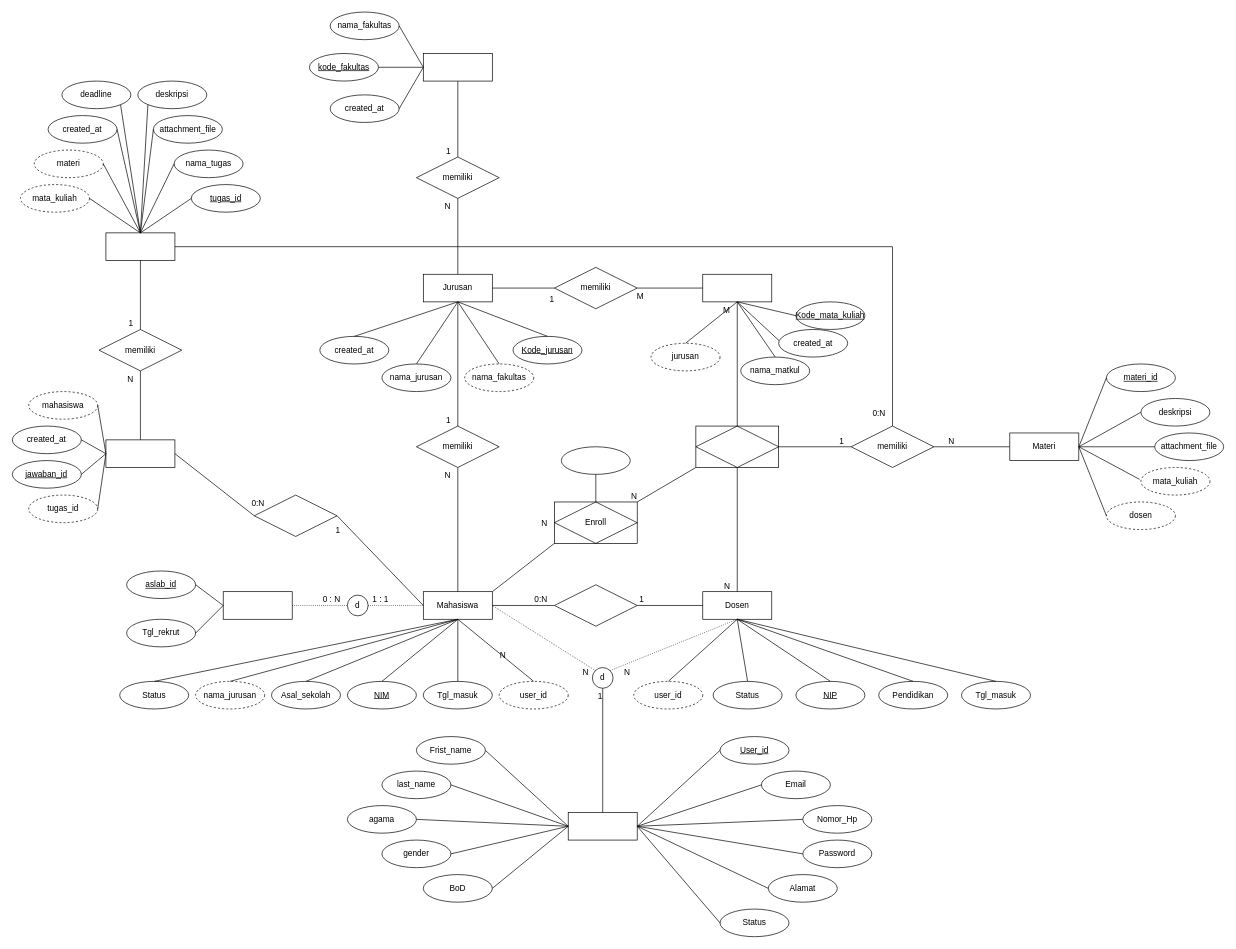
This 1236x949 diagram has some shape labels left out. The shapes that lost their labels are listed below. From the top down, each one's centre as x and y in pixels, then its label:
(457,67): Fakultas
(140,246): Tugas
(737,288): Mata Kuliah
(140,453): Jawaban
(595,460): Role
(737,446): mata_kuliah_dosen
(295,515): Dijawab
(257,605): Asisten Lab
(595,605): membimbing
(602,826): User
